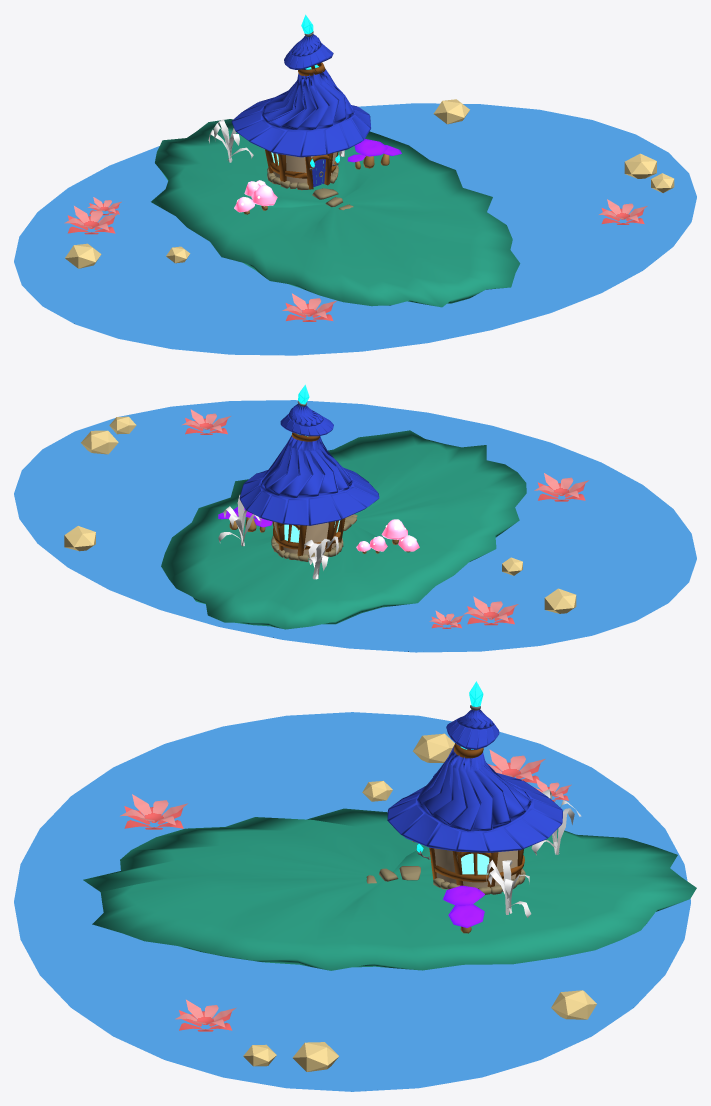
Rendered from fantasy_magic_house.glb.
3 views of the same model, one above another, from view 1: azimuth 30°, elevation 25°; view 2: azimuth 150°, elevation 25°; view 3: azimuth 270°, elevation 25° (orthographic). The views are drawn at different scales.
Visible parts, largest first — view 1: 円柱, House, Flowers.002, Flowers.003, Flowers.004, icosahedron.004, icosahedron.003, icosahedron.001; view 2: 円柱, House, Flowers.003, Flowers.002, Flowers.004, icosahedron.004, icosahedron.001, icosahedron.003; view 3: 円柱, House, Flowers.003, Flowers.004, icosahedron.003, icosahedron.004, Flowers.002, icosahedron.001.
Part boxes in pixels (<box>): 円柱: <box>14,103,696,355</box>; House: <box>151,14,520,307</box>; Flowers.002: <box>64,206,118,234</box>; Flowers.003: <box>282,293,336,321</box>; Flowers.004: <box>599,199,647,224</box>; icosahedron.004: <box>624,153,656,178</box>; icosahedron.003: <box>433,99,469,124</box>; icosahedron.001: <box>65,243,101,268</box>; 円柱: <box>14,400,696,652</box>; House: <box>161,384,526,629</box>; Flowers.003: <box>534,473,588,501</box>; Flowers.002: <box>463,596,518,625</box>; Flowers.004: <box>181,409,230,434</box>; icosahedron.004: <box>81,430,118,454</box>; icosahedron.001: <box>544,588,576,613</box>; icosahedron.003: <box>64,526,95,551</box>; 円柱: <box>14,712,690,1091</box>; House: <box>83,681,696,970</box>; Flowers.003: <box>120,794,187,829</box>; Flowers.004: <box>175,999,236,1031</box>; icosahedron.003: <box>551,990,596,1019</box>; icosahedron.004: <box>292,1042,339,1071</box>; Flowers.002: <box>488,749,545,783</box>; icosahedron.001: <box>413,733,454,762</box>.
Bounding box in the file's own units: 37.26 × 10.32 × 28.42.
28 materials, 4 textured.
